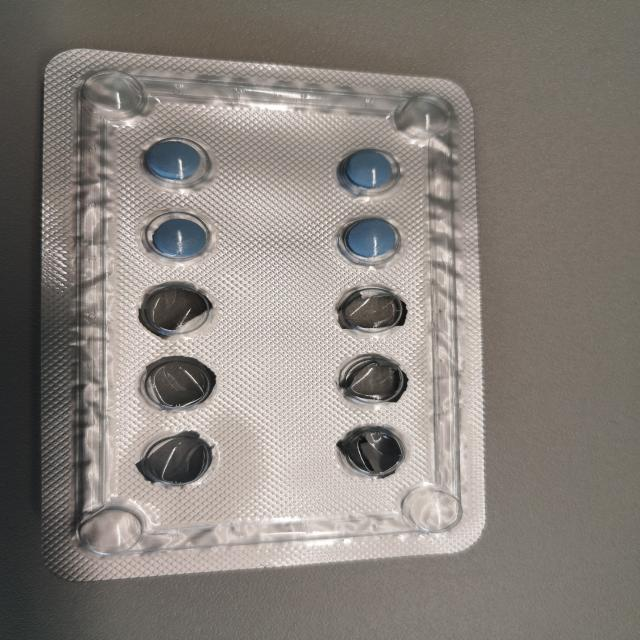Empty: (128, 346, 234, 418), (130, 422, 234, 494), (129, 277, 232, 347), (327, 346, 426, 410), (326, 421, 424, 484), (330, 279, 419, 342)
Pill: (125, 128, 225, 199), (130, 208, 236, 270), (325, 209, 419, 273), (318, 142, 418, 202), (101, 128, 115, 148)
